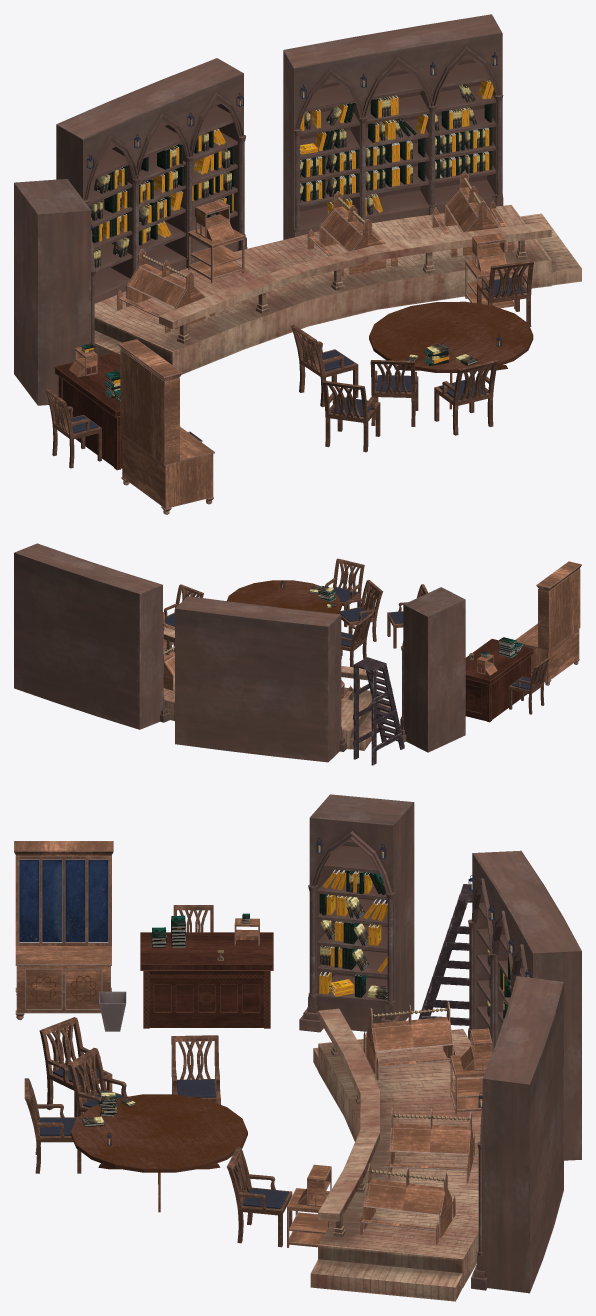
Rendered from LibraryKit.fbx.
3 renders of one model, top to bottom at view 1: azimuth 30°, elevation 25°; view 2: azimuth 150°, elevation 25°; view 3: azimuth 270°, elevation 25°, orthographic. The views are drawn at different scales.
Visible parts, largest first — view 1: stage.001, shell.001 (×2), shell.018, shell.016 (×2), Cube.013, Cylinder.011, Cube.023 (×6), desk (×3), shell.014 (×2), Cube.011, shell.013 (×2), Cube.015 (×2) (+6 smaller); view 2: shell.001 (×2), shell.018, Cube.013, Cube.011, Cube.010, Cube.023 (×5), Cylinder.011, stage.001, shell.016 (×2), desk, Cube.025, Cube.051 (+1 smaller); view 3: shell.001 (×2), stage.001, Cylinder.011, desk (×3), Cube.013, shell.018, Cube.014, Cube.023 (×5), Cube.012, Cube.011, shell.016 (×2), shell.025 (+13 smaller).
Boxes of the visible parts, left/top/right/bottom form: stage.001: left=94, top=204, right=581, bottom=374; shell.001 (×2): left=56, top=14, right=501, bottom=303; shell.018: left=14, top=179, right=88, bottom=405; shell.016 (×2): left=81, top=32, right=502, bottom=274; Cube.013: left=118, top=339, right=214, bottom=514; Cylinder.011: left=369, top=301, right=533, bottom=372; Cube.023 (×6): left=45, top=260, right=533, bottom=468; desk (×3): left=116, top=171, right=514, bottom=333; shell.014 (×2): left=92, top=62, right=490, bottom=180; Cube.011: left=54, top=352, right=122, bottom=470; shell.013 (×2): left=88, top=85, right=495, bottom=205; Cube.015 (×2): left=188, top=227, right=515, bottom=309; shell.001 (×2): left=14, top=544, right=341, bottom=762; shell.018: left=403, top=588, right=465, bottom=752; Cube.013: left=515, top=561, right=581, bottom=685; Cube.011: left=465, top=639, right=533, bottom=722; Cube.010: left=353, top=657, right=404, bottom=765; Cube.023 (×5): left=325, top=558, right=549, bottom=714; Cylinder.011: left=227, top=580, right=341, bottom=613; stage.001: left=163, top=627, right=390, bottom=750; shell.016 (×2): left=36, top=543, right=341, bottom=729; desk: left=163, top=643, right=174, bottom=691; Cube.025: left=338, top=563, right=359, bottom=591; Cube.051: left=477, top=654, right=497, bottom=675; shell.001 (×2): left=475, top=850, right=581, bottom=1293; stage.001: left=310, top=1008, right=482, bottom=1301; Cylinder.011: left=71, top=1094, right=247, bottom=1172; desk (×3): left=359, top=1001, right=474, bottom=1244; Cube.013: left=14, top=841, right=113, bottom=1019; shell.018: left=311, top=794, right=414, bottom=1031; Cube.014: left=18, top=859, right=108, bottom=943; Cube.023 (×5): left=24, top=1017, right=292, bottom=1247; Cube.012: left=149, top=971, right=263, bottom=1027; Cube.011: left=140, top=932, right=273, bottom=1028; shell.016 (×2): left=472, top=853, right=535, bottom=1256; shell.025: left=309, top=816, right=394, bottom=1000.
Bounding box in the file's own units: 61.98 × 18.72 × 45.97.
